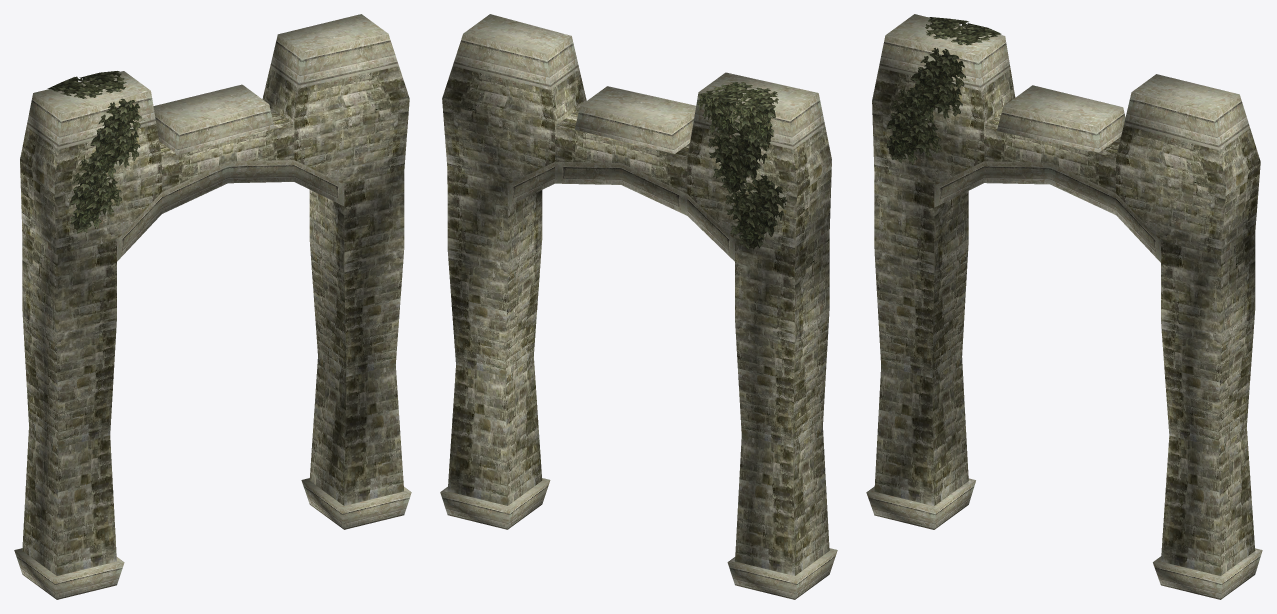
Rendered from OZ_22_ma_relic03A.glb.
The picture shows the model from 3 angles, left to right: view 1: azimuth 30°, elevation 25°; view 2: azimuth 150°, elevation 25°; view 3: azimuth 330°, elevation 25°; orthographic projection.
Visible parts, largest first — view 1: OM_22_ma_relic03A; view 2: OM_22_ma_relic03A; view 3: OM_22_ma_relic03A.
Part boxes in pixels (left/top/right/bottom): OM_22_ma_relic03A: left=14, top=14, right=411, bottom=599; OM_22_ma_relic03A: left=440, top=14, right=837, bottom=599; OM_22_ma_relic03A: left=866, top=14, right=1262, bottom=599.
Bounding box in the file's own units: 8.57 × 11.2 × 1.75.
Materials: 1 (1 with a texture image).
